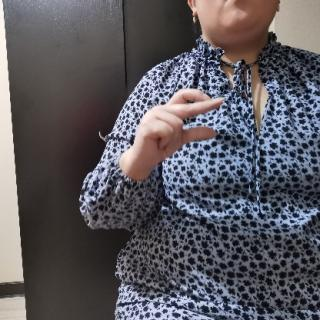DHELL: (128, 83, 234, 163)
